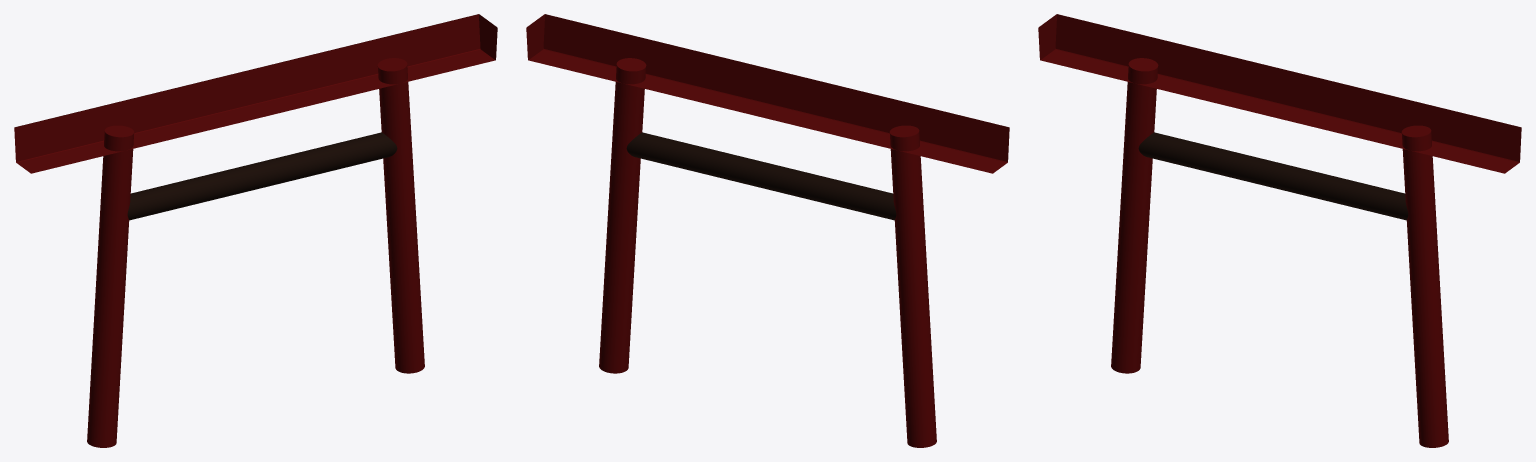
Rendered from Shinmei_Angled_1.obj.
3 renders of one model, left to right at view 1: azimuth 30°, elevation 25°; view 2: azimuth 150°, elevation 25°; view 3: azimuth 330°, elevation 25°, orthographic.
Visible parts, largest first — view 1: Cube.004_Cube.005; view 2: Cube.004_Cube.005; view 3: Cube.004_Cube.005.
Part boxes in pixels (x1,y1,x2,y2): Cube.004_Cube.005: (14,14,497,447); Cube.004_Cube.005: (526,14,1009,447); Cube.004_Cube.005: (1038,14,1521,447).
Size of the model in its own units: 5.13 by 3.46 by 0.3602.
